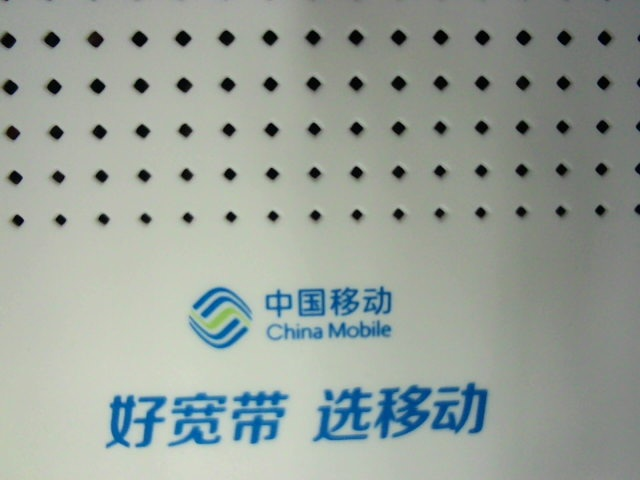AA_ChinaMoble: (96, 278, 499, 447)
